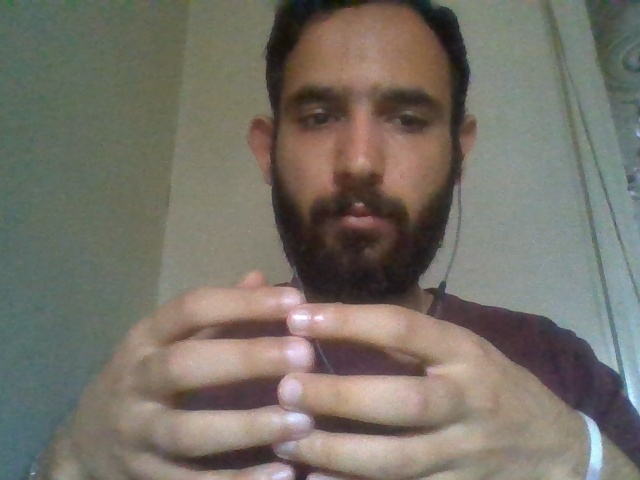Story: (117, 252, 547, 480)
